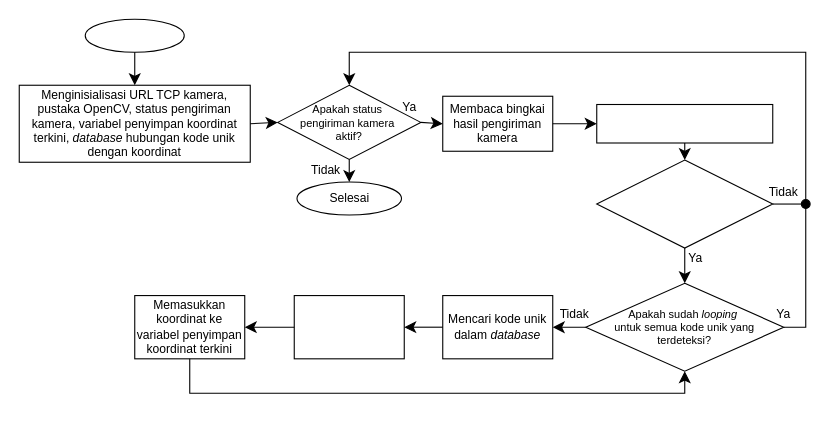
Some shapes in this 836 by 424 pixel diagram are drawn without their labels. The shapes that lost their labels are listed below. From the top down, each one's box as (x1, y1, x2, y2) in pixels, then its label:
(84, 18, 184, 52): Mulai
(596, 103, 773, 143): Memanggil fungsi cv2.aruco.detectMarkers( )
(596, 159, 773, 248): Apakah ada kode unik MFP yang terdeteksi?
(293, 294, 404, 359): Mengambil koordinat untuk kode unik terkait dari database
